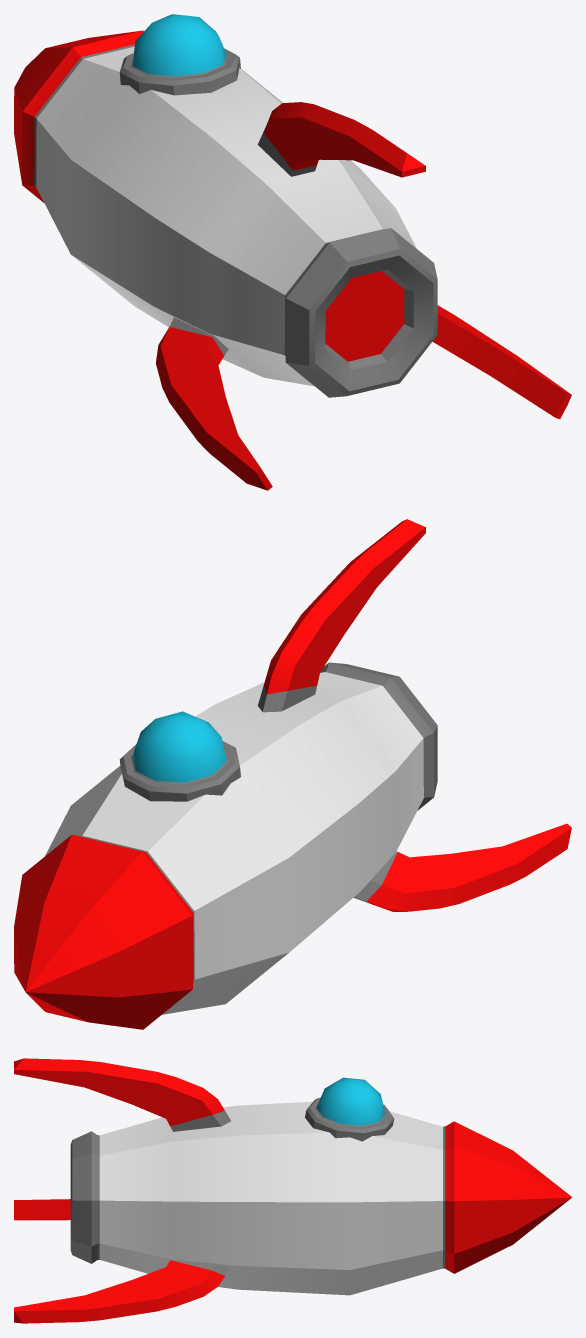
Rendered from rocket_basic.glb.
3 views of the same model, one above another, from view 1: azimuth 30°, elevation 25°; view 2: azimuth 150°, elevation 25°; view 3: azimuth 270°, elevation 25° (orthographic). The views are drawn at different scales.
Visible parts, largest first — view 1: 0.106, 1.063, 2.032, 3.008; view 2: 0.106, 1.063, 2.032, 3.008; view 3: 0.106, 1.063, 2.032, 3.008.
Boxes of the visible parts, x1,y1,x2,y2 form: 0.106: (36,46,416,386); 1.063: (14,30,571,490); 2.032: (34,44,437,397); 3.008: (132,14,226,76); 0.106: (45,672,423,1014); 1.063: (14,519,571,1029); 2.032: (81,662,437,980); 3.008: (132,711,226,782); 0.106: (99,1101,442,1295); 1.063: (14,1058,571,1323); 2.032: (70,1097,445,1275); 3.008: (316,1077,384,1125).
Size of the model in its own units: 0.2409 by 0.221 by 0.5048.
